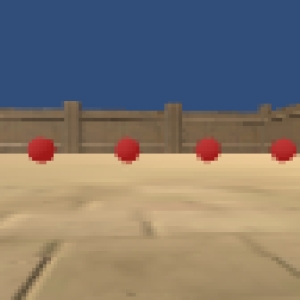badGoal: (25, 133, 57, 164), (267, 136, 297, 166), (111, 137, 142, 166), (193, 135, 221, 166)
